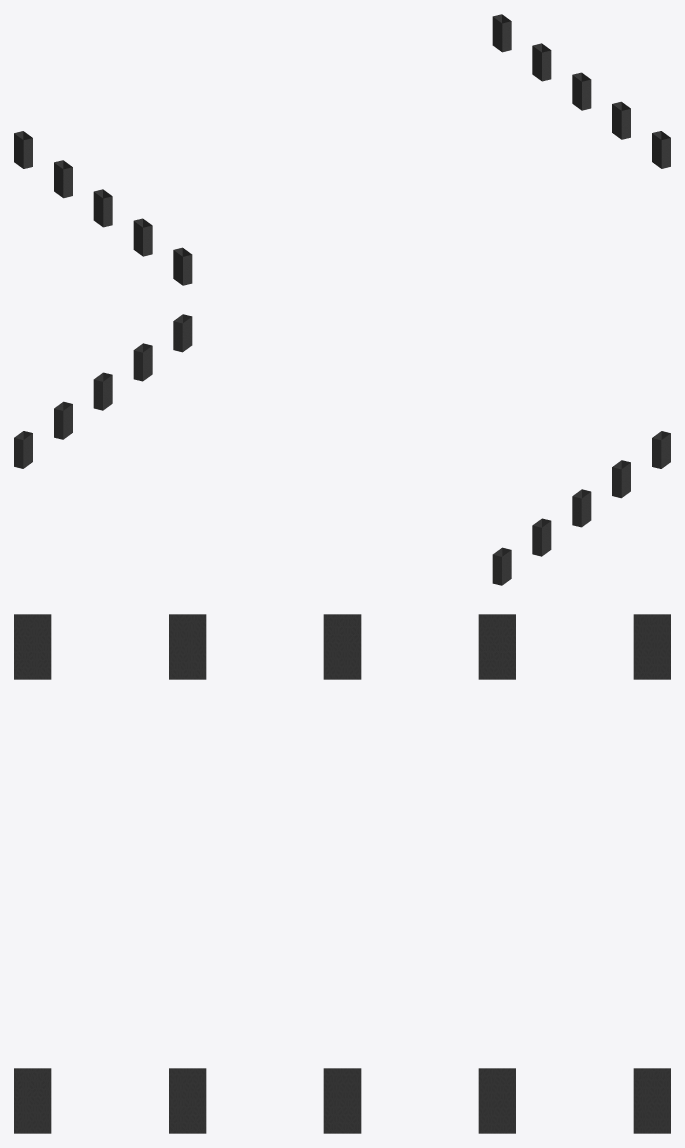
File: Stadium_Pillar.FBX
3 renders of one model, top to bottom at view 1: azimuth 30°, elevation 25°; view 2: azimuth 150°, elevation 25°; view 3: azimuth 270°, elevation 25°, orthographic. The views are drawn at different scales.
Parts seen in each view (by area): view 1: Stadium_Pillar; view 2: Stadium_Pillar; view 3: Stadium_Pillar.
Part boxes in pixels (x1,y1,x2,y2): Stadium_Pillar: (14, 14, 670, 285); Stadium_Pillar: (14, 314, 670, 585); Stadium_Pillar: (14, 614, 670, 1133).
Bounding box in the file's own units: 67844 × 3841 × 40687.
